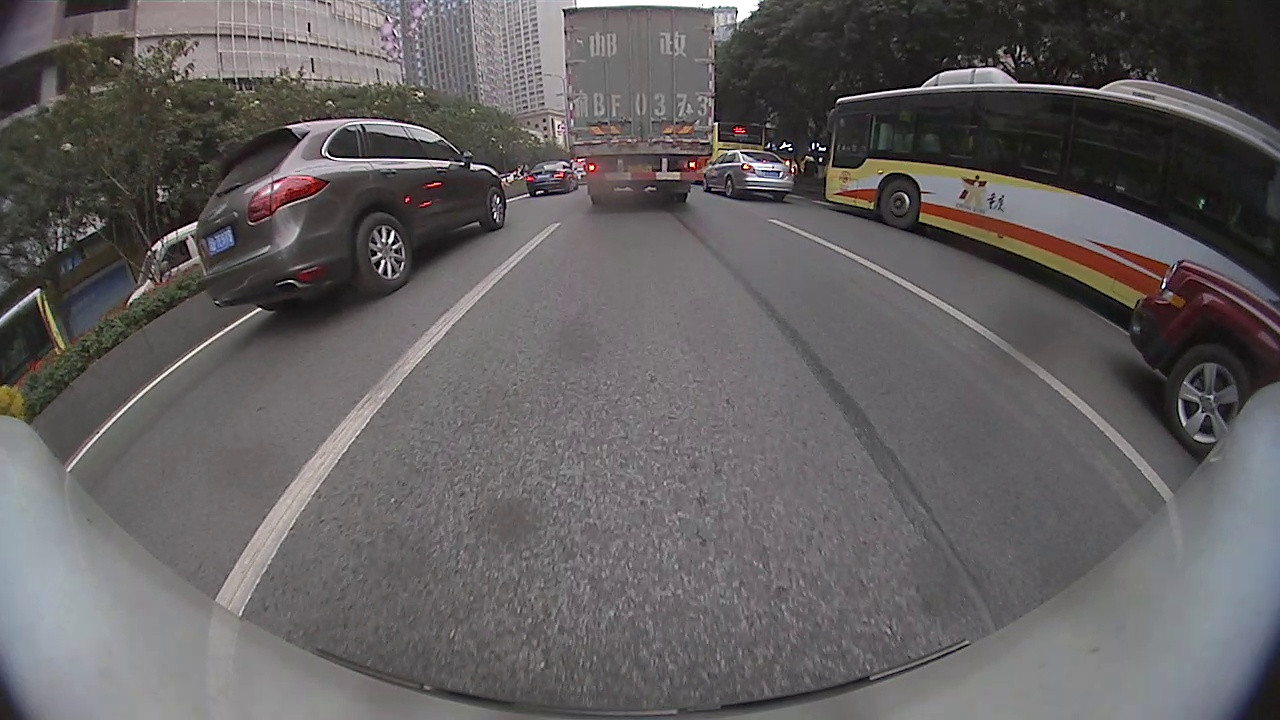bus: (826, 64, 1279, 314)
car: (193, 118, 509, 312), (1128, 256, 1279, 448), (706, 150, 796, 200), (523, 158, 578, 195)
front: (1160, 341, 1254, 456), (878, 176, 923, 230), (481, 185, 507, 233)
rear: (349, 211, 416, 300), (723, 176, 735, 199)
truck: (561, 8, 718, 205)
